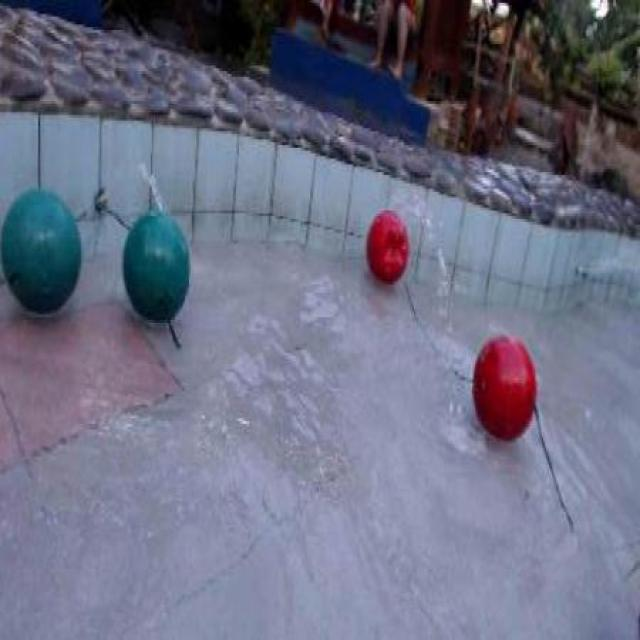buoy: (2, 188, 80, 315), (121, 212, 190, 324), (472, 332, 538, 439), (366, 209, 409, 283)
